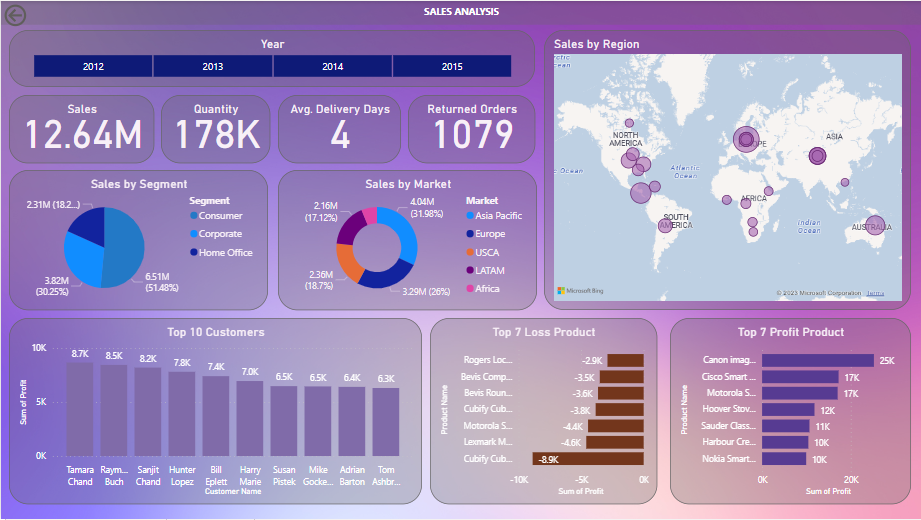

This screenshot's page, from the dashboard's own definition file:
{"tool":"powerbi","page":{"name":"Sales Analysis","canvas":[1280,720],"ordinal":0},"visuals":[{"type":"card","title":"Sales","fields":{"Values":["Orders.Sales"]},"box":[11.1,130.7,201.5,94.5],"z":0},{"type":"card","title":"Quantity","fields":{"Values":["Orders.Quantity"]},"box":[222.4,130.7,151.5,94.5],"z":1000},{"type":"slicer","title":"Year","fields":{"Values":["Orders.Year"]},"box":[11.1,40.3,731.1,79.2],"z":2000},{"type":"map","title":"Sales by Region","fields":{"Category":["Orders.Region"],"Size":["Orders.Sales"]},"box":[754.7,40.3,510.1,389.2],"z":3000},{"type":"barChart","title":"Top 7 Profit Product","fields":{"Y":["Orders.Profit"],"Category":["Orders.Product Name"]},"box":[929.9,440.6,335,258.5],"z":4000},{"type":"barChart","title":"Top 7 Loss Product","fields":{"Y":["Orders.Profit"],"Category":["Orders.Product Name"]},"box":[596.3,440.6,315.5,258.5],"z":5000},{"type":"card","title":"Avg. Delivery Days","fields":{"Values":["Orders.Delivery Days"]},"box":[385,130.7,171,94.5],"z":6000},{"type":"card","title":"Returned Orders","fields":{"Values":["Returns.Returned Orders"]},"box":[565.7,130.7,176.5,94.5],"z":7000},{"type":"donutChart","title":"Sales by Market","fields":{"Y":["Orders.Sales"],"Category":["Orders.Market"]},"box":[385,234.9,360,194.6],"z":8000},{"type":"pieChart","title":"Sales by Segment","fields":{"Category":["Orders.Segment"],"Y":["Orders.Sales"]},"box":[11.1,234.9,360,194.6],"z":9000},{"type":"columnChart","title":"Top 10 Customers","fields":{"Y":["Orders.Profit"],"Category":["Orders.Customer Name"]},"box":[11.1,440.6,574.1,258.5],"z":10000},{"type":"textbox","box":[0,0,1280.2,33.4],"z":11000},{"type":"actionButton","box":[0,0,100,40],"z":12000}]}

Visuals, with their boxes in screenshot pixels (x1, y1, x2, y2), scaled from the page's 1280x720 canvas onto the 921x520 screenshot:
"Sales" card: BBox(8, 94, 153, 163)
"Quantity" card: BBox(160, 94, 269, 163)
"Year" slicer: BBox(8, 29, 534, 86)
"Sales by Region" map: BBox(543, 29, 910, 310)
"Top 7 Profit Product" barChart: BBox(669, 318, 910, 505)
"Top 7 Loss Product" barChart: BBox(429, 318, 656, 505)
"Avg. Delivery Days" card: BBox(277, 94, 400, 163)
"Returned Orders" card: BBox(407, 94, 534, 163)
"Sales by Market" donutChart: BBox(277, 170, 536, 310)
"Sales by Segment" pieChart: BBox(8, 170, 267, 310)
"Top 10 Customers" columnChart: BBox(8, 318, 421, 505)
textbox: BBox(0, 0, 920, 24)
actionButton: BBox(0, 0, 72, 29)
